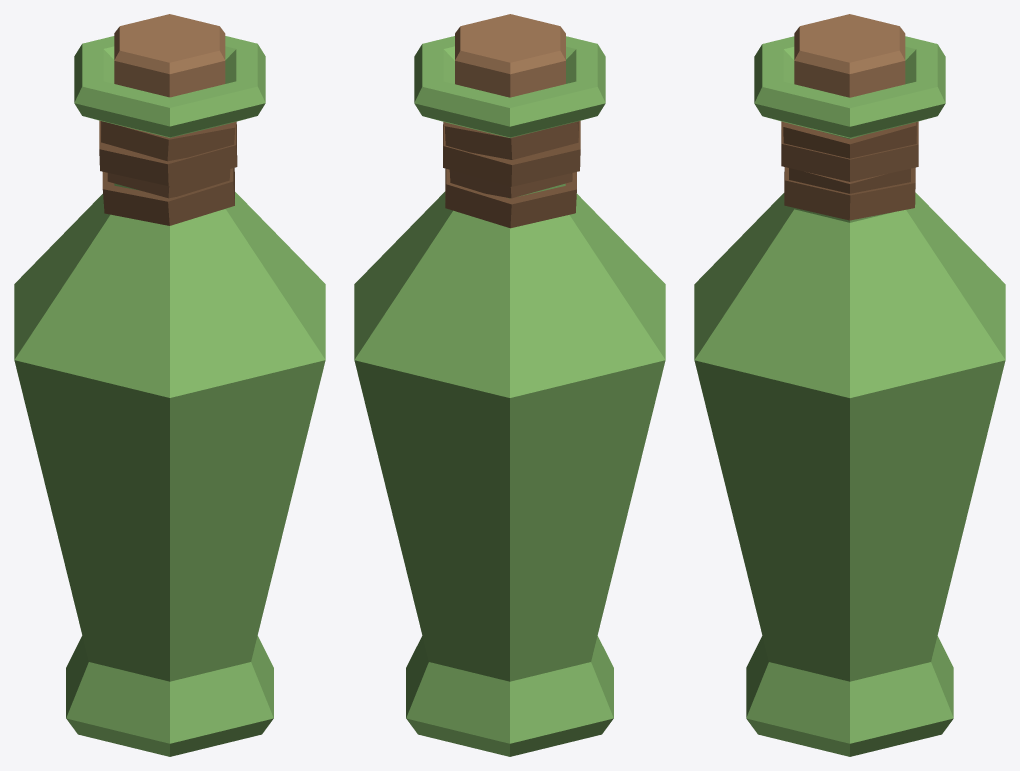
The model's file is Green_Potion_8(String).fbx.
The picture shows the model from 3 angles, left to right: view 1: azimuth 30°, elevation 25°; view 2: azimuth 150°, elevation 25°; view 3: azimuth 270°, elevation 25°; orthographic projection.
Parts seen in each view (by area): view 1: Green_Potion_8(String); view 2: Green_Potion_8(String); view 3: Green_Potion_8(String).
Boxes of the visible parts, <box> form: Green_Potion_8(String): <box>14,14,325,756</box>; Green_Potion_8(String): <box>354,14,665,756</box>; Green_Potion_8(String): <box>694,14,1005,756</box>.
Size of the model in its own units: 16.45 by 34.03 by 14.25.
